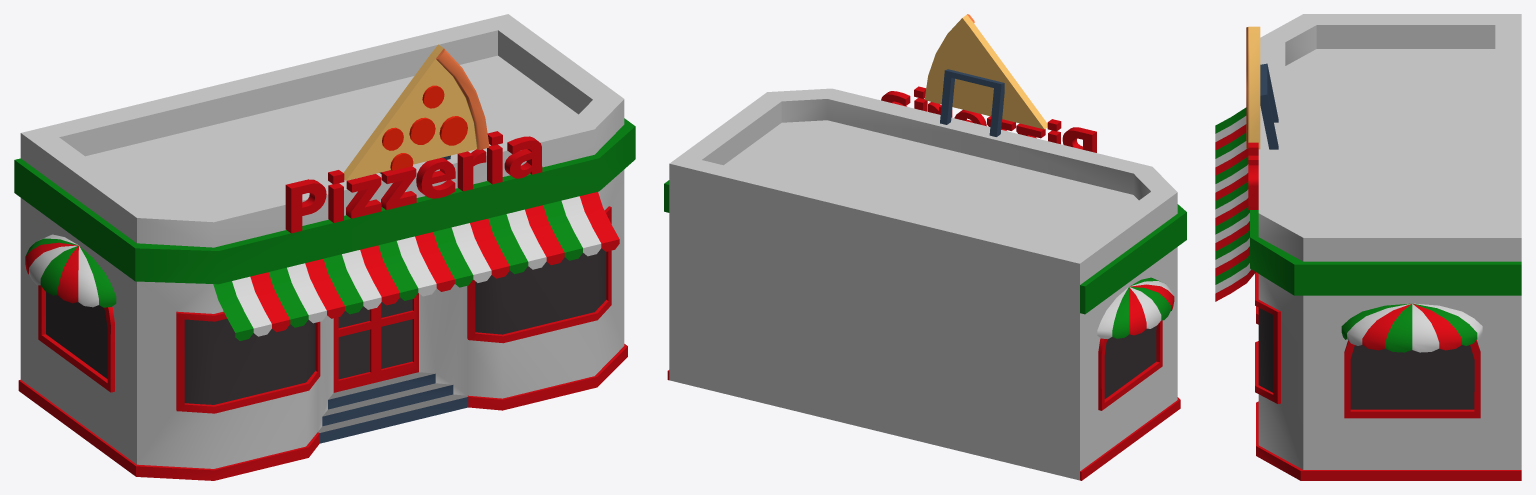
The model's file is PizzaBuilding.glb.
3 views of the same model, side by side, from view 1: azimuth 30°, elevation 25°; view 2: azimuth 150°, elevation 25°; view 3: azimuth 270°, elevation 25° (orthographic). The views are drawn at different scales.
Visible parts, largest first — view 1: PizzaBuilding; view 2: PizzaBuilding; view 3: PizzaBuilding.
Part boxes in pixels (x1,y1,x2,y2): PizzaBuilding: [14, 14, 635, 480]; PizzaBuilding: [664, 14, 1186, 480]; PizzaBuilding: [1215, 14, 1521, 480].
Size of the model in its own units: 0.0509 by 0.0327 by 0.0255.
Materials: 1 (1 with a texture image).
